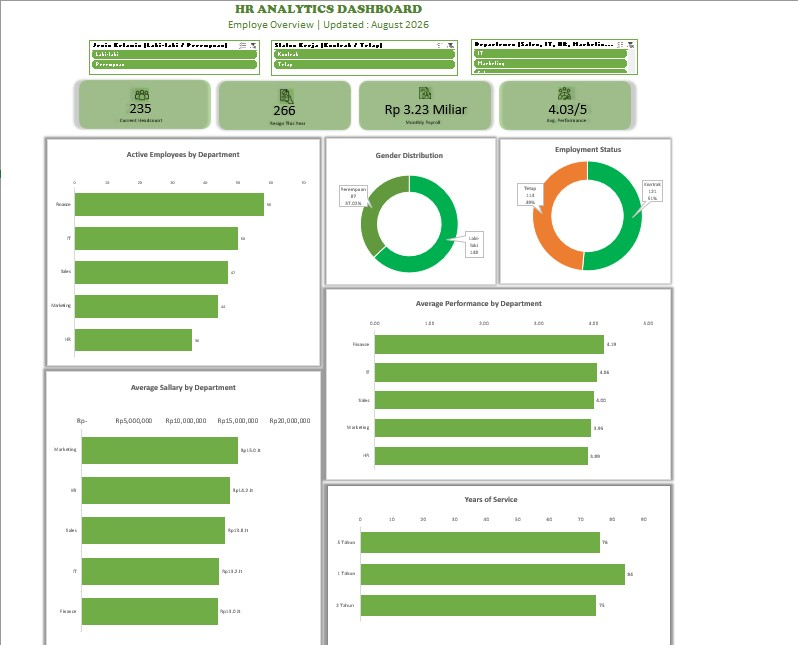

This screenshot's page, from the dashboard's own definition file:
{"tool":"powerbi","page":{"name":"Page 1","canvas":[1280,720],"ordinal":0},"visuals":[{"type":"shape","box":[6.2,166.2,176.2,535],"z":0},{"type":"cardVisual","fields":{"Data":["Data.Total Resign Employees"]},"box":[465.6,23.3,258.9,133.3],"z":1000},{"type":"cardVisual","fields":{"Data":["Data.Total Active Employees"]},"box":[190,23.3,260,131.7],"z":2000},{"type":"cardVisual","fields":{"Data":["Data.Monthly Payroll"]},"box":[740,25.6,258.9,133.3],"z":3000},{"type":"cardVisual","fields":{"Data":["Data.Average Employees Performance"]},"box":[1015.6,25.6,237.8,134.4],"z":4000},{"type":"clusteredBarChart","title":"Active Employees by Department","fields":{"Category":["Data.Departemen (Sales, IT, HR, Marketing, Finance)"],"Y":["CountNonNull(Data.ID Karyawan (e.g., HR001, HR002))"],"Series":["Data.Status Aktif (Aktif / Resign)"]},"box":[190,166.2,417.5,245],"z":5000},{"type":"pieChart","title":"Gender Distribution","fields":{"Category":["Data.Jenis Kelamin (Laki-laki / Perempuan)"],"Y":["CountNonNull(Data.ID Karyawan (e.g., HR001, HR002))"]},"box":[618.8,166.2,347.5,246.2],"z":6000},{"type":"pieChart","title":"Employment Status","fields":{"Y":["CountNonNull(Data.ID Karyawan (e.g., HR001, HR002))"],"Category":["Data.Status Kerja (Kontrak / Tetap)"]},"box":[976,166,278,246],"z":7000},{"type":"clusteredBarChart","title":"Average Sallary by Department","fields":{"Y":["Avg(Data.Gaji Bulanan)"],"Category":["Data.Departemen (Sales, IT, HR, Marketing, Finance)"],"Series":["Data.Status Aktif (Aktif / Resign)"]},"box":[555.6,423.3,417.8,278.9],"z":8000},{"type":"clusteredBarChart","title":"Average Performance by Department","fields":{"Category":["Data.Departemen (Sales, IT, HR, Marketing, Finance)"],"Y":["Avg(Data.Rating Performa (1 sampai 5))"],"Series":["Data.Status Aktif (Aktif / Resign)"]},"box":[190,423.3,353.3,278.9],"z":9000},{"type":"clusteredBarChart","title":"Years of Service","fields":{"Category":["Data.Masa Kerja"],"Y":["CountNonNull(Data.ID Karyawan (e.g., HR001, HR002))"],"Series":["Data.Status Aktif (Aktif / Resign)"]},"box":[983.3,425,270,276.7],"z":10000},{"type":"slicer","fields":{"Values":["Data.Departemen (Sales, IT, HR, Marketing, Finance)"]},"box":[15,183.8,160,93.8],"z":11000},{"type":"slicer","fields":{"Values":["Data.Jenis Kelamin (Laki-laki / Perempuan)"]},"box":[15,330,160,93.8],"z":12000},{"type":"slicer","fields":{"Values":["Data.Status Kerja (Kontrak / Tetap)"]},"box":[13.8,468.8,160,93.8],"z":13000},{"type":"textbox","box":[6.2,23.8,176.2,131.2],"z":14000}]}

Visuals, with their boxes on the page's 1280x720 design canvas (x1, y1, x2, y2). These are canvas units, not pixel positions in the 798x645 screenshot, which may show the page scaled, cropped or inside an application window:
shape: {"x1": 6, "y1": 166, "x2": 182, "y2": 701}
cardVisual - Data.Total Resign Employees: {"x1": 466, "y1": 23, "x2": 724, "y2": 157}
cardVisual - Data.Total Active Employees: {"x1": 190, "y1": 23, "x2": 450, "y2": 155}
cardVisual - Data.Monthly Payroll: {"x1": 740, "y1": 26, "x2": 999, "y2": 159}
cardVisual - Data.Average Employees Performance: {"x1": 1016, "y1": 26, "x2": 1253, "y2": 160}
"Active Employees by Department" clusteredBarChart: {"x1": 190, "y1": 166, "x2": 608, "y2": 411}
"Gender Distribution" pieChart: {"x1": 619, "y1": 166, "x2": 966, "y2": 412}
"Employment Status" pieChart: {"x1": 976, "y1": 166, "x2": 1254, "y2": 412}
"Average Sallary by Department" clusteredBarChart: {"x1": 556, "y1": 423, "x2": 973, "y2": 702}
"Average Performance by Department" clusteredBarChart: {"x1": 190, "y1": 423, "x2": 543, "y2": 702}
"Years of Service" clusteredBarChart: {"x1": 983, "y1": 425, "x2": 1253, "y2": 702}
slicer - Data.Departemen (Sales, IT, HR, Marketing, Finance): {"x1": 15, "y1": 184, "x2": 175, "y2": 278}
slicer - Data.Jenis Kelamin (Laki-laki / Perempuan): {"x1": 15, "y1": 330, "x2": 175, "y2": 424}
slicer - Data.Status Kerja (Kontrak / Tetap): {"x1": 14, "y1": 469, "x2": 174, "y2": 563}
textbox: {"x1": 6, "y1": 24, "x2": 182, "y2": 155}
